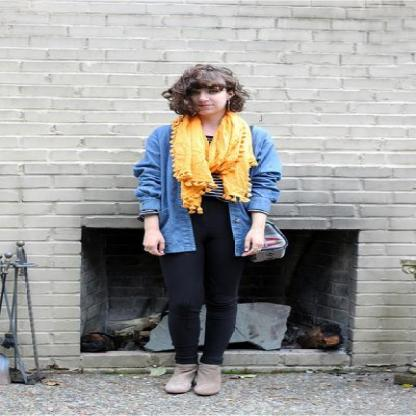bag: (242, 214, 290, 262)
jacket: (133, 125, 282, 255)
pants: (153, 192, 261, 374)
shirt: (205, 169, 227, 198)
shoe: (162, 361, 242, 394)
